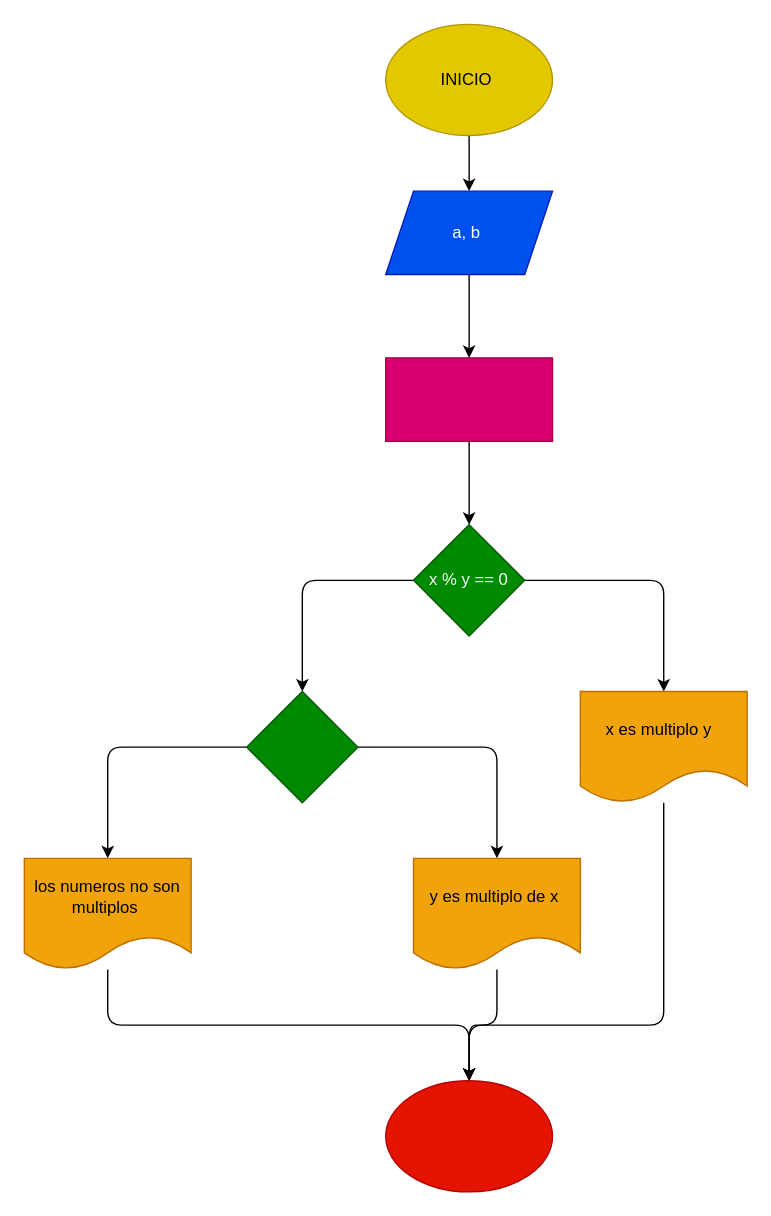
The diagram is 771 pixels wide and 1216 high, and some of its shapes have lost their labels. The shapes that lost their labels are listed below. From the top down, each one's centre as x and y in pixels, then its label:
At (x=468, y=399): "def calcular (x, y)".
At (x=301, y=746): "y % x == 0".
At (x=468, y=1135): "FIN".
